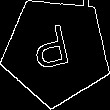P_S: (33, 22, 80, 80)
